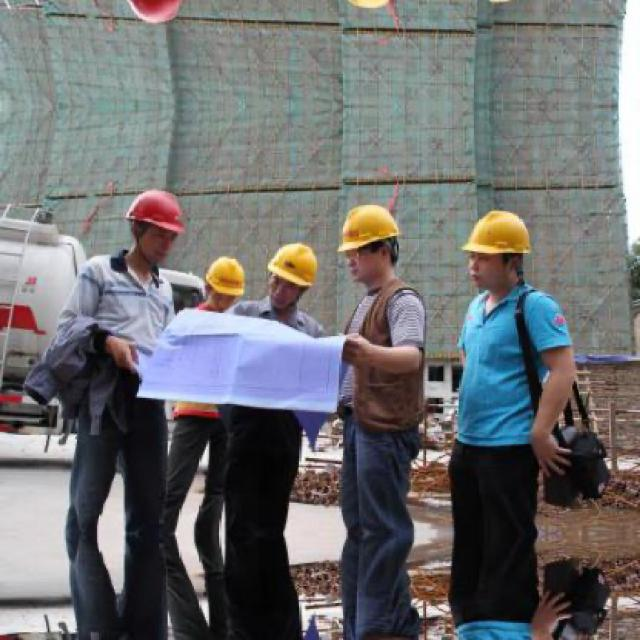helmet: (461, 205, 537, 299), (335, 197, 408, 290), (118, 183, 194, 267), (264, 238, 322, 313), (202, 252, 249, 312), (118, 0, 196, 31)
